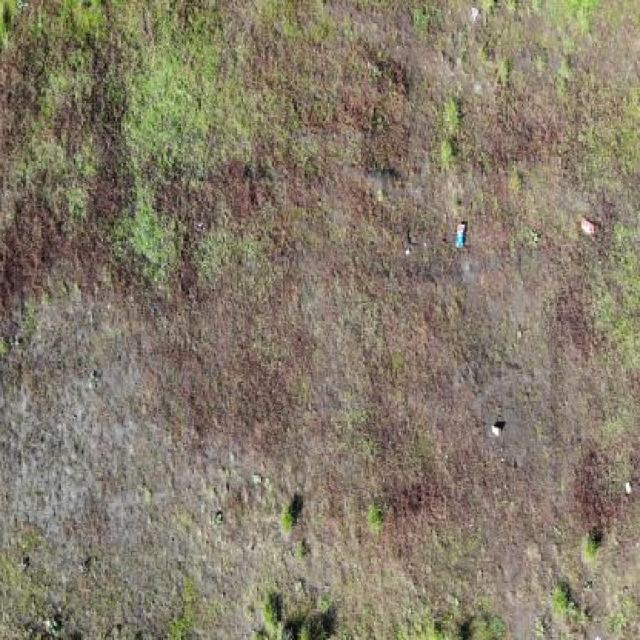Garbage: (580, 215, 596, 234), (455, 223, 466, 247), (491, 426, 500, 438), (553, 525, 560, 537), (625, 480, 631, 493), (594, 634, 601, 640), (404, 249, 410, 255), (560, 210, 563, 217), (558, 195, 562, 200), (382, 476, 385, 481), (392, 205, 395, 209), (424, 243, 426, 246)
